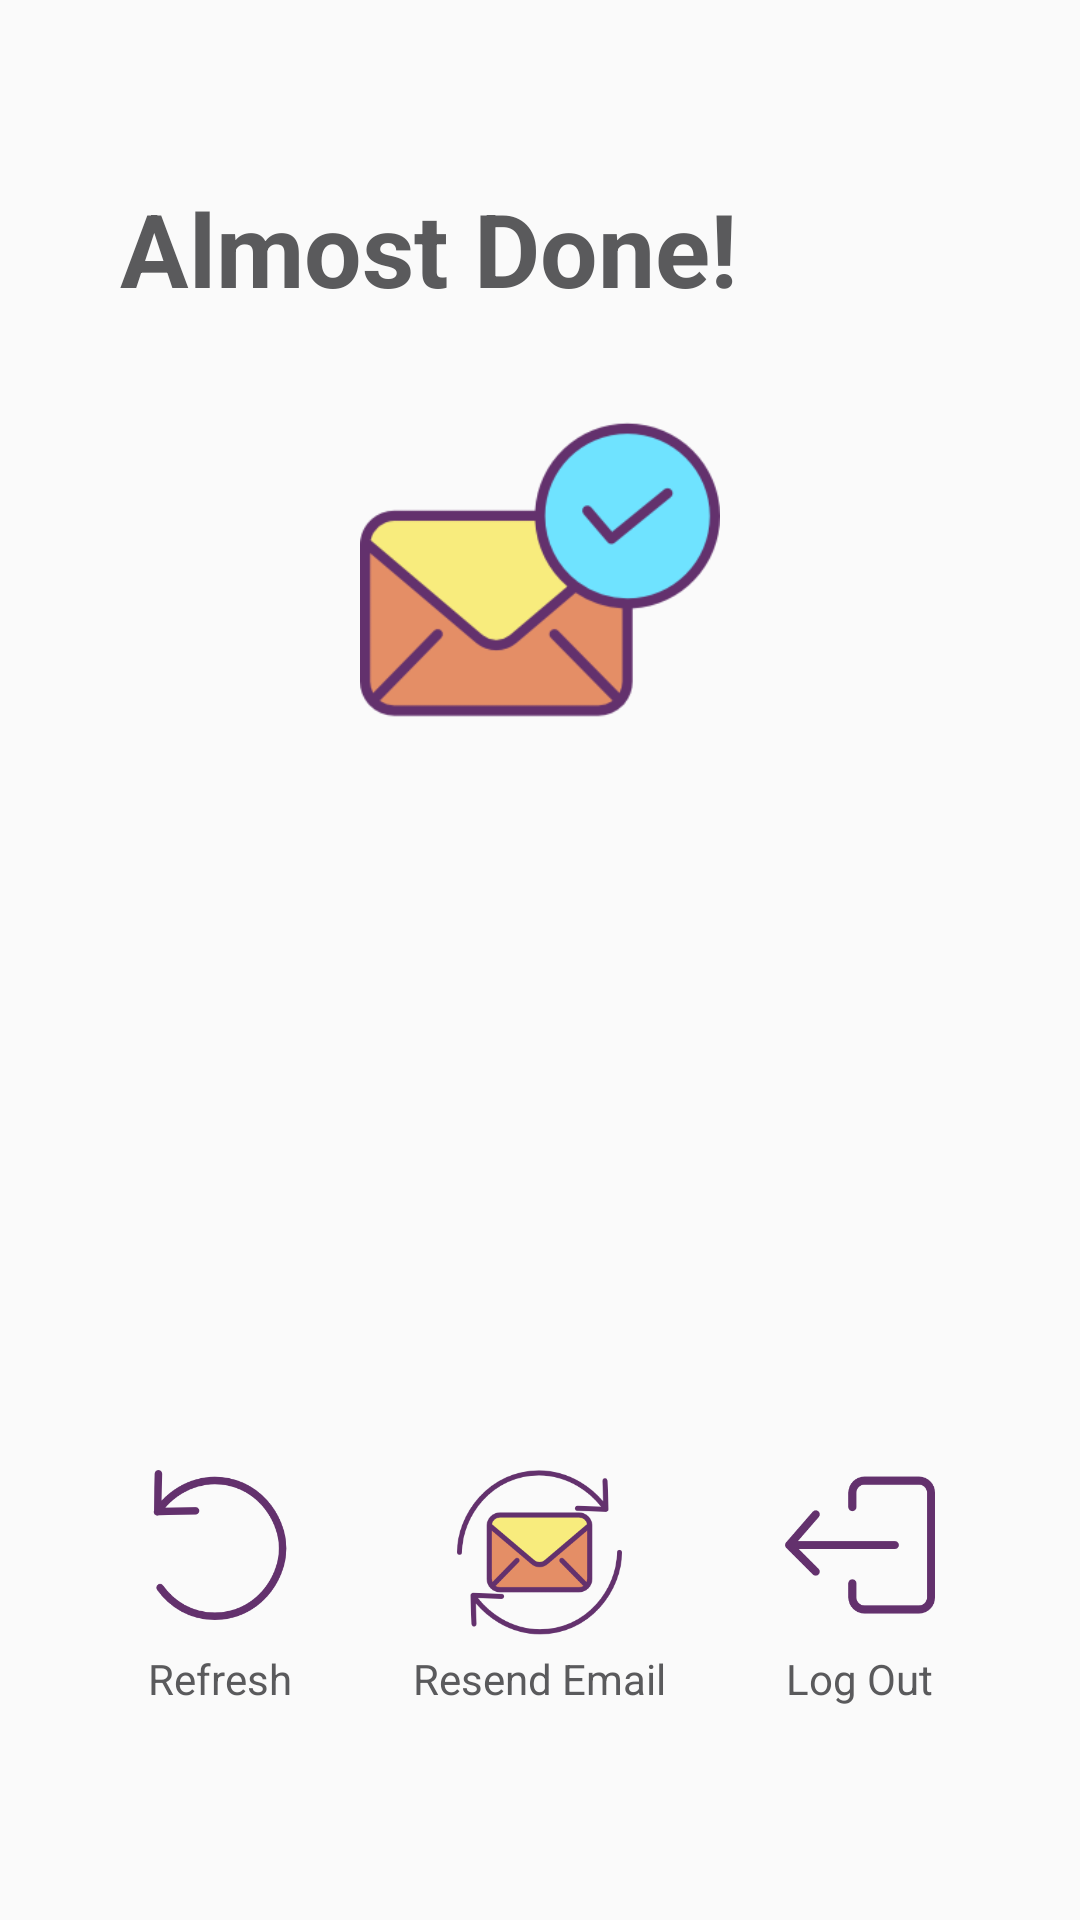

Locate icon controls on the screen. Image size 1080×1920, boxes as bbox(x1, y1, x2, y2).
mail: bbox(360, 423, 720, 717)
mail refresh: bbox(457, 1470, 622, 1635)
